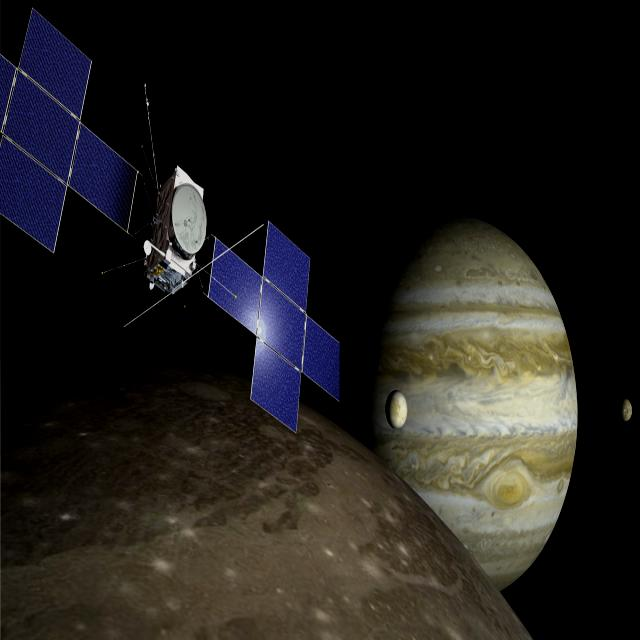satellite: (1, 0, 355, 446)
